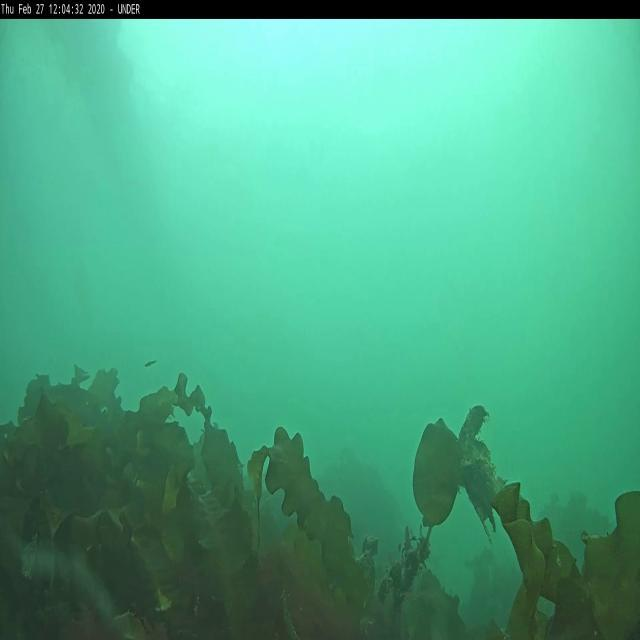fish: (144, 358, 156, 370)
